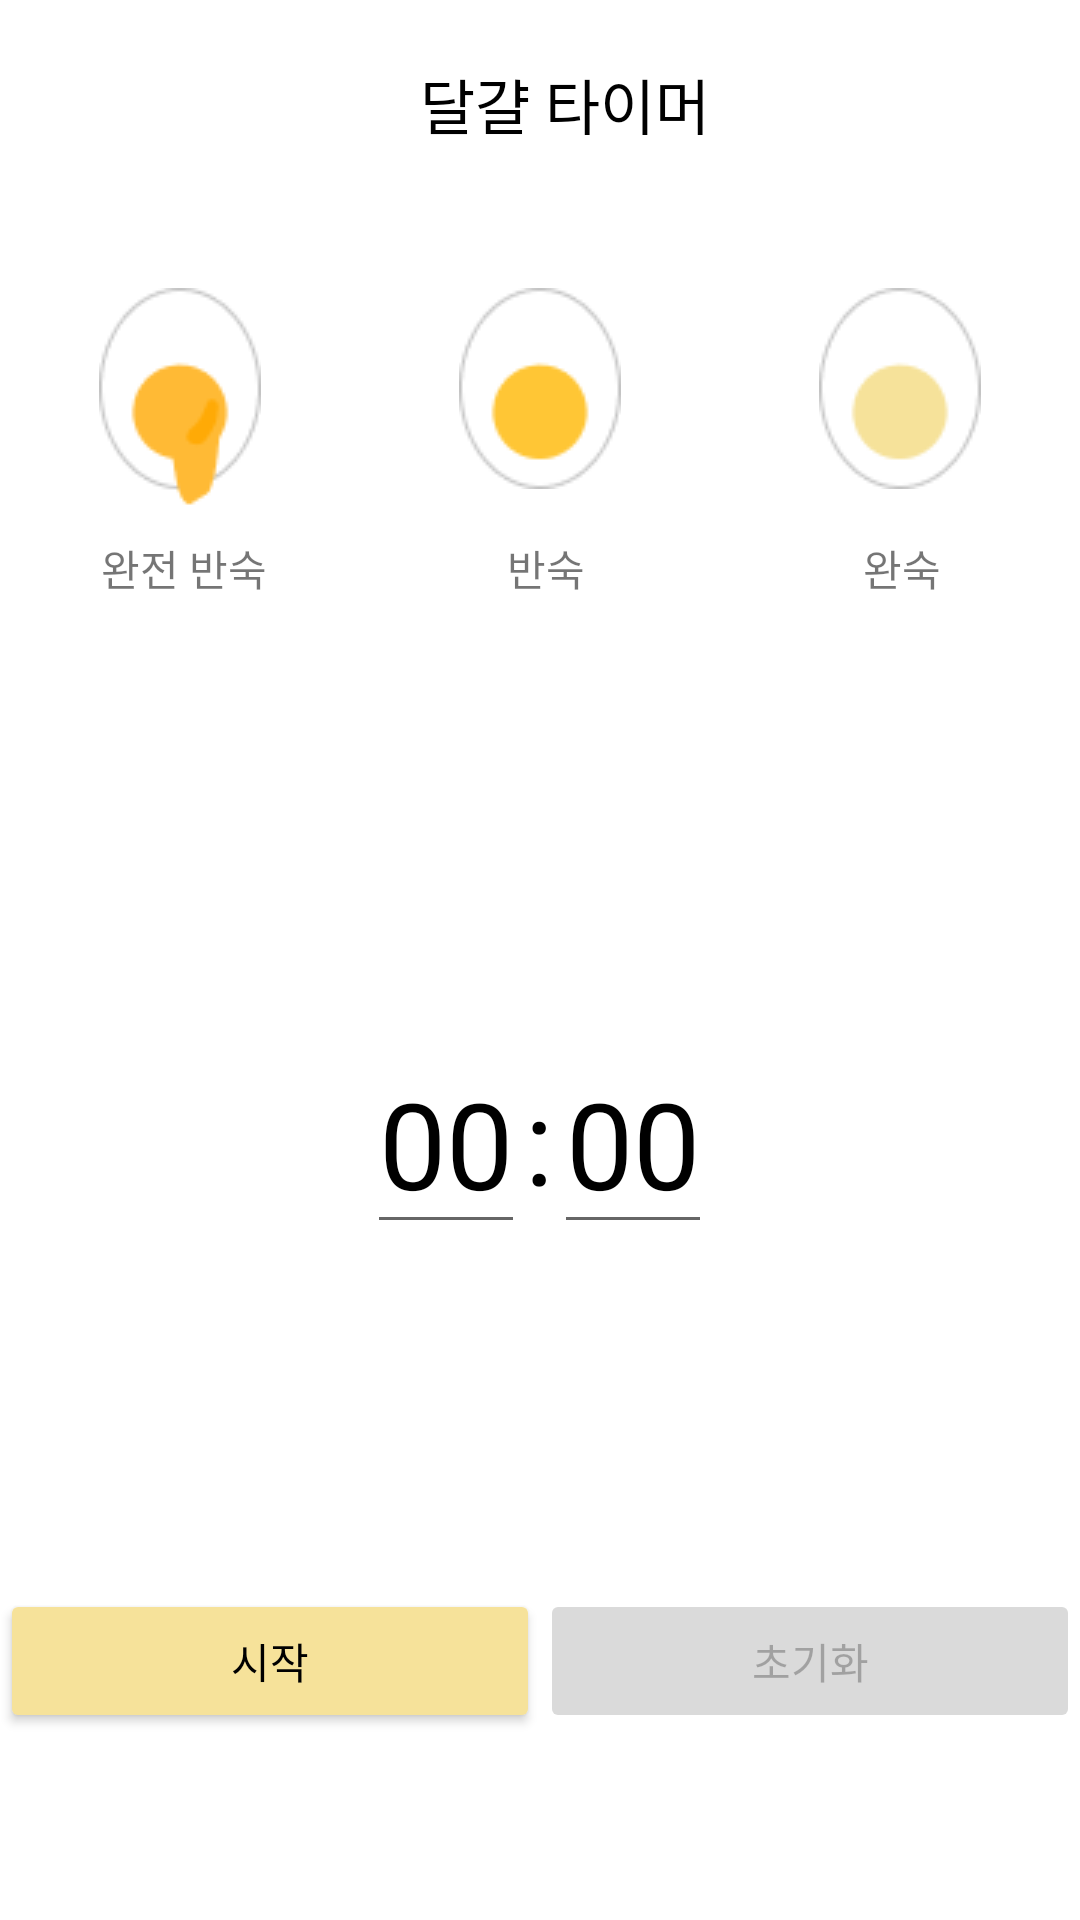

Screen size 1080×1920. Icon name, then its center in pixels as (x,y):
egg: (180,396), (540,388), (900,388)
